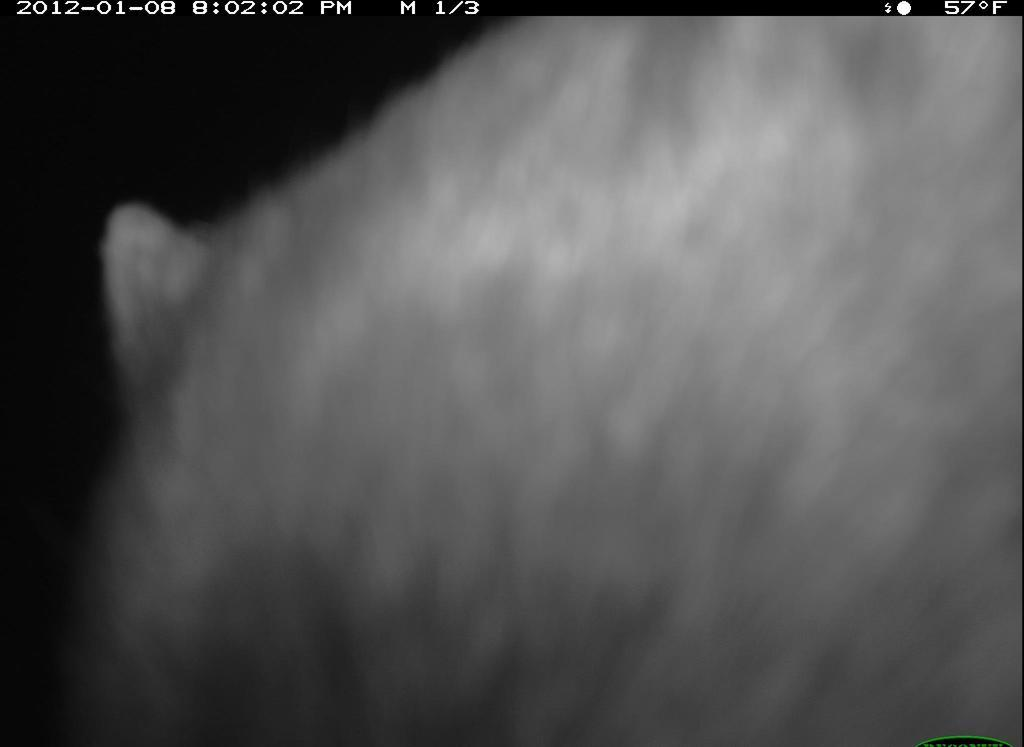raccoon: (72, 20, 1023, 747)
